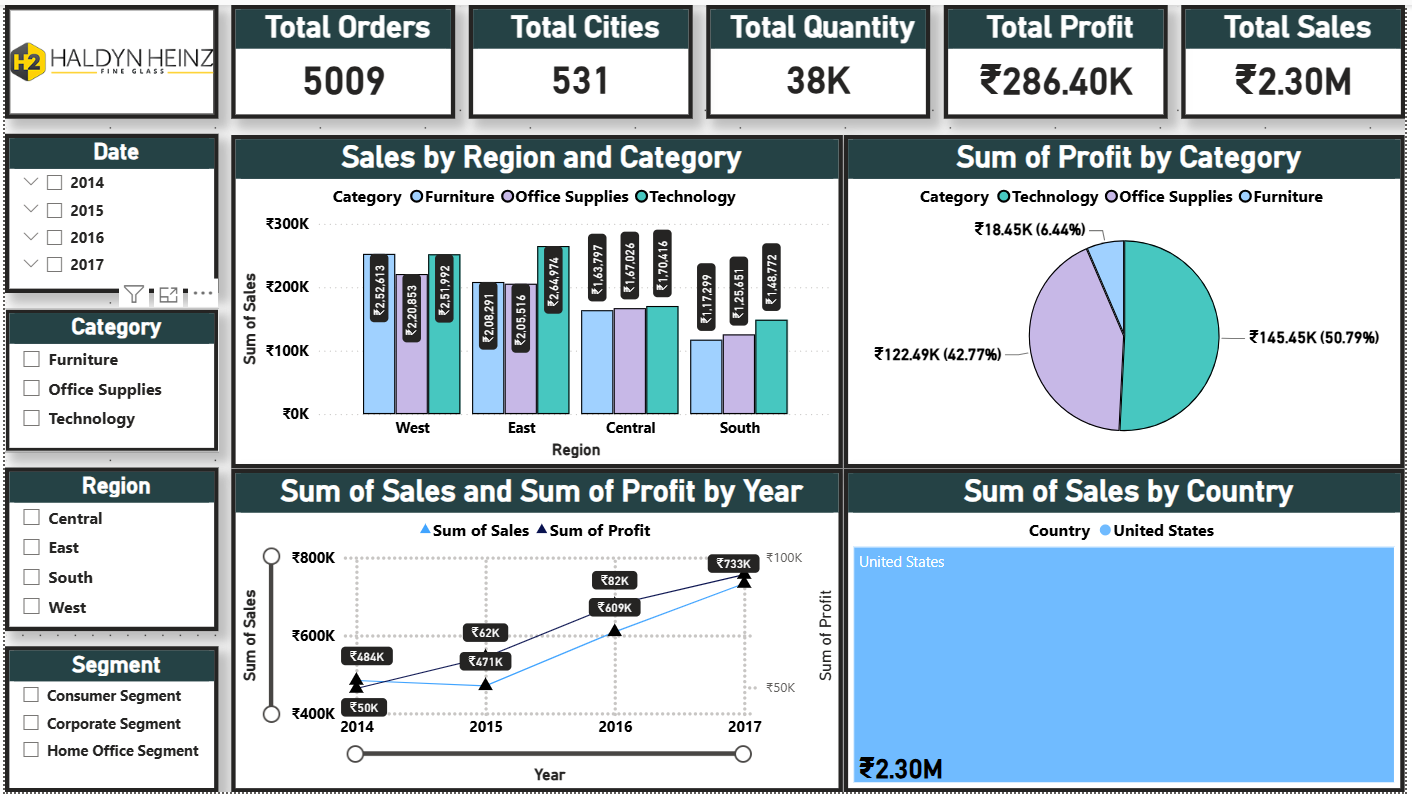

What the dashboard file says about the page in this screenshot:
{"tool":"powerbi","page":{"name":"Sales Overview","canvas":[1280,720],"ordinal":1},"visuals":[{"type":"image","box":[0,0,195.4,104],"z":0},{"type":"cardVisual","title":"Total Sales","fields":{"Data":["Sum(Orders.Sales)"]},"box":[1075,0,205,104.3],"z":1000},{"type":"cardVisual","title":"Total Quantity","fields":{"Data":["Sum(Orders.Quantity)"]},"box":[641.1,0,205,104.3],"z":2000},{"type":"cardVisual","title":"Total Cities","fields":{"Data":["Count(Orders.City)"]},"box":[424.2,0,205,104.3],"z":3000},{"type":"cardVisual","title":"Total Orders","fields":{"Data":["Count(Orders.Order ID)"]},"box":[207.3,0,205,104.3],"z":4000},{"type":"cardVisual","title":"Total Profit","fields":{"Data":["Sum(Orders.Profit)"]},"box":[858,0,205,104.3],"z":5000},{"type":"slicer","title":"Date","fields":{"Values":["Orders.Order Date.Variation.Date Hierarchy.Year","Orders.Order Date.Variation.Date Hierarchy.Quarter","Orders.Order Date.Variation.Date Hierarchy.Month","Orders.Order Date.Variation.Date Hierarchy.Day"]},"box":[0,118,195.6,145.8],"z":6000},{"type":"slicer","title":"Category","fields":{"Values":["Orders.Category"]},"box":[0,277.8,195.6,131.6],"z":7000},{"type":"slicer","title":"Region","fields":{"Values":["Orders.Region"]},"box":[0,423.3,195.6,149.3],"z":8000},{"type":"slicer","title":"Segment","fields":{"Values":["Orders.Segment"]},"box":[0,586.1,195.6,133.9],"z":9000},{"type":"clusteredColumnChart","title":"Sales by Region and Category","fields":{"Y":["Sum(Orders.Sales)"],"Category":["Orders.Region"],"Series":["Orders.Category"]},"box":[207.4,118.5,559.4,304.6],"z":10000},{"type":"pieChart","fields":{"Category":["Orders.Category"],"Y":["Sum(Orders.Profit)"]},"box":[766.8,118.5,513.2,304.6],"z":11000},{"type":"lineChart","fields":{"Category":["Orders.Order Date.Variation.Date Hierarchy.Year","Orders.Order Date.Variation.Date Hierarchy.Quarter","Orders.Order Date.Variation.Date Hierarchy.Month","Orders.Order Date.Variation.Date Hierarchy.Day"],"Y":["Sum(Orders.Sales)"],"Y2":["Sum(Orders.Profit)"]},"box":[207.4,424.3,559.4,296.3],"z":12000},{"type":"treemap","fields":{"Group":["Orders.Country"],"Values":["Sum(Orders.Sales)"]},"box":[767,424,513,296],"z":13000}]}

Visuals, with their boxes in screenshot pixels (x1, y1, x2, y2), scaled from the page's 1280x720 canvas onto the 1412x796 screenshot:
image: <region>0, 0, 216, 115</region>
"Total Sales" cardVisual: <region>1186, 0, 1411, 115</region>
"Total Quantity" cardVisual: <region>707, 0, 933, 115</region>
"Total Cities" cardVisual: <region>468, 0, 694, 115</region>
"Total Orders" cardVisual: <region>229, 0, 455, 115</region>
"Total Profit" cardVisual: <region>946, 0, 1173, 115</region>
"Date" slicer: <region>0, 130, 216, 292</region>
"Category" slicer: <region>0, 307, 216, 453</region>
"Region" slicer: <region>0, 468, 216, 633</region>
"Segment" slicer: <region>0, 648, 216, 795</region>
"Sales by Region and Category" clusteredColumnChart: <region>229, 131, 846, 468</region>
pieChart - Orders.Category x Sum(Orders.Profit): <region>846, 131, 1411, 468</region>
lineChart - Orders.Order Date.Variation.Date Hierarchy.Year x Orders.Order Date.Variation.Date Hierarchy.Quarter: <region>229, 469, 846, 795</region>
treemap - Orders.Country x Sum(Orders.Sales): <region>846, 469, 1411, 795</region>
